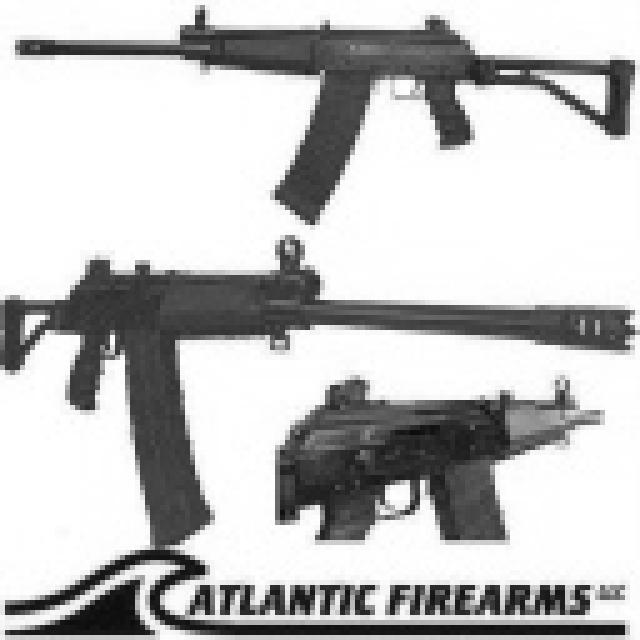Rifle: (0, 235, 640, 558), (0, 6, 640, 229), (258, 380, 615, 550)
